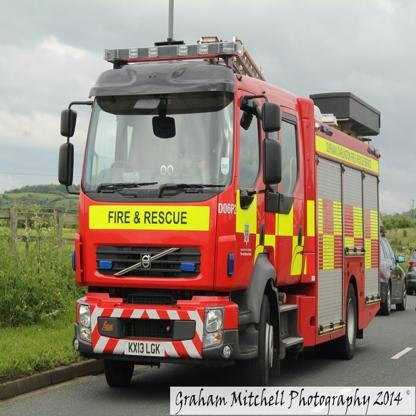fire-truck: (31, 26, 403, 384)
